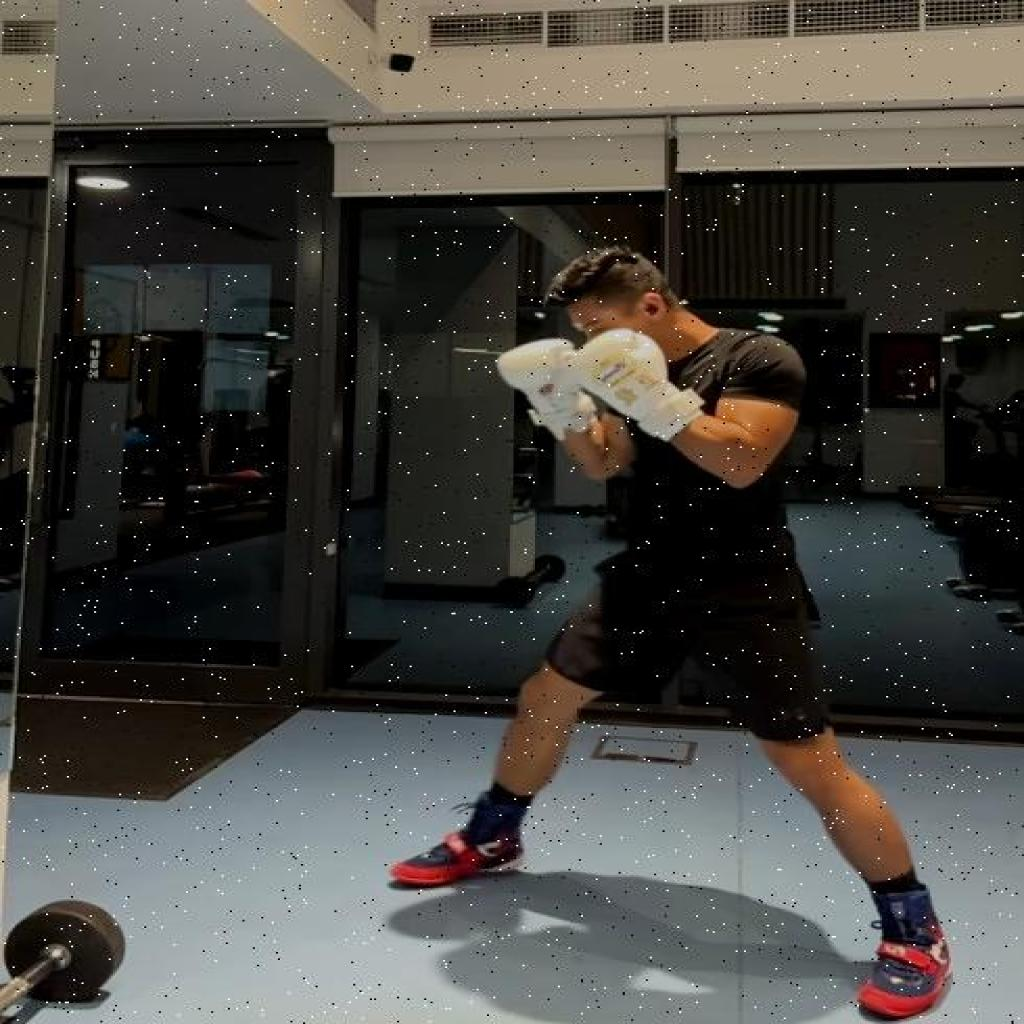no punch: (383, 246, 957, 1024)
